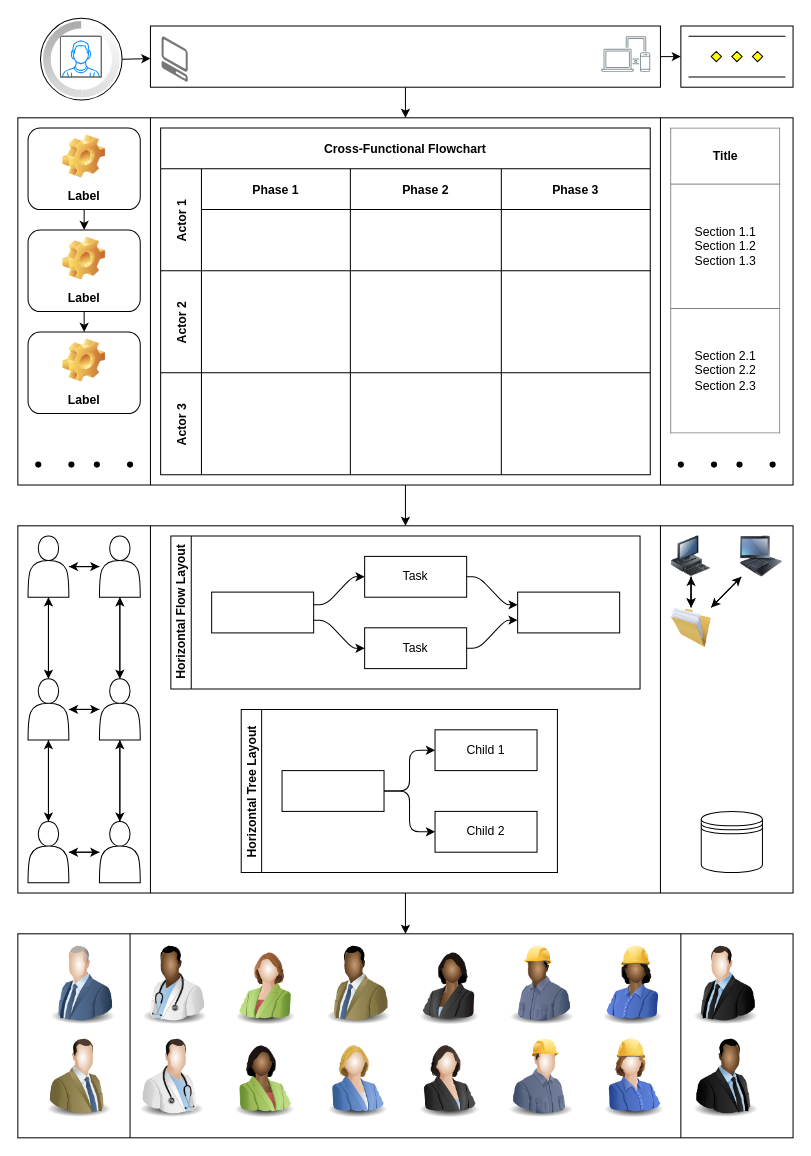
This 811x1156 diagram has some shape labels left out. Here are the shapes that lost their labels. From the top down, the centre of each, then its label:
point (262, 612): Start
point (568, 612): End
point (332, 790): Root
